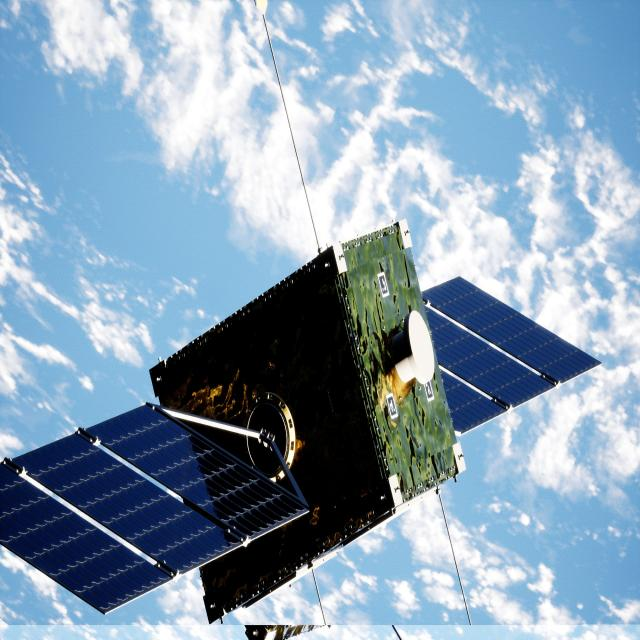medium_debris: (0, 222, 601, 625)
